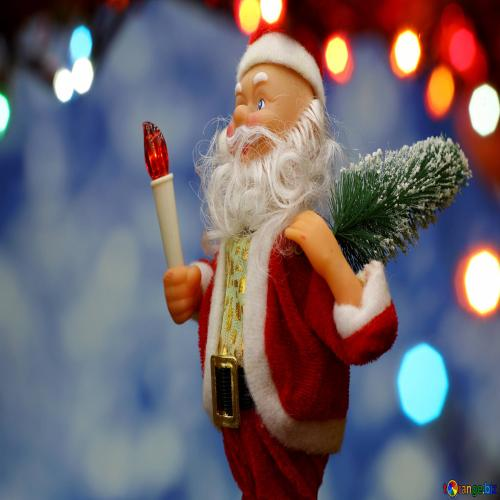Santa: (163, 17, 398, 500)
